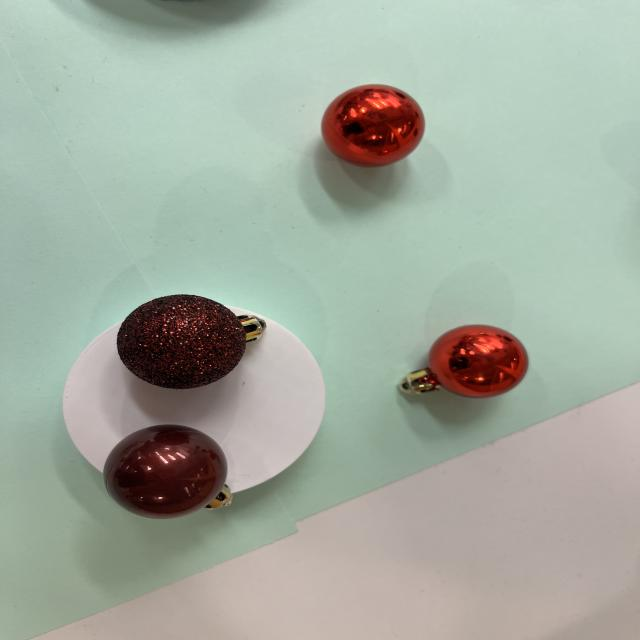glitter-bauble: (107, 292, 275, 395), (117, 294, 267, 390)
glossy-bauble: (389, 320, 541, 408), (313, 82, 435, 174), (398, 325, 529, 399), (321, 84, 426, 168)
wine-red-bauble: (88, 419, 241, 522), (103, 424, 233, 520)
